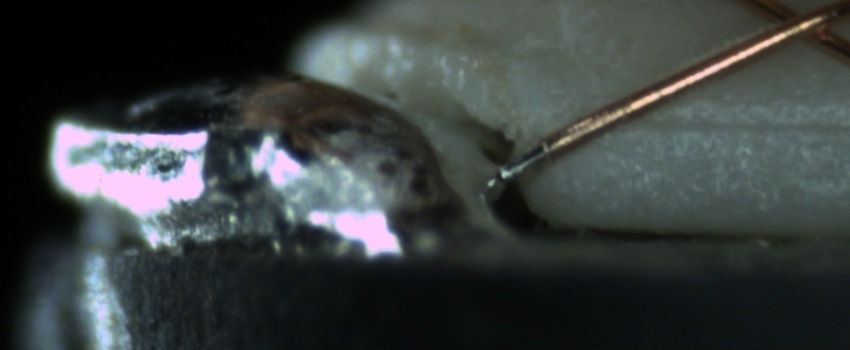CL: (739, 0, 845, 56)
DL: (623, 89, 844, 157)
TS: (490, 140, 547, 190)
TTCW: (490, 124, 567, 187)
